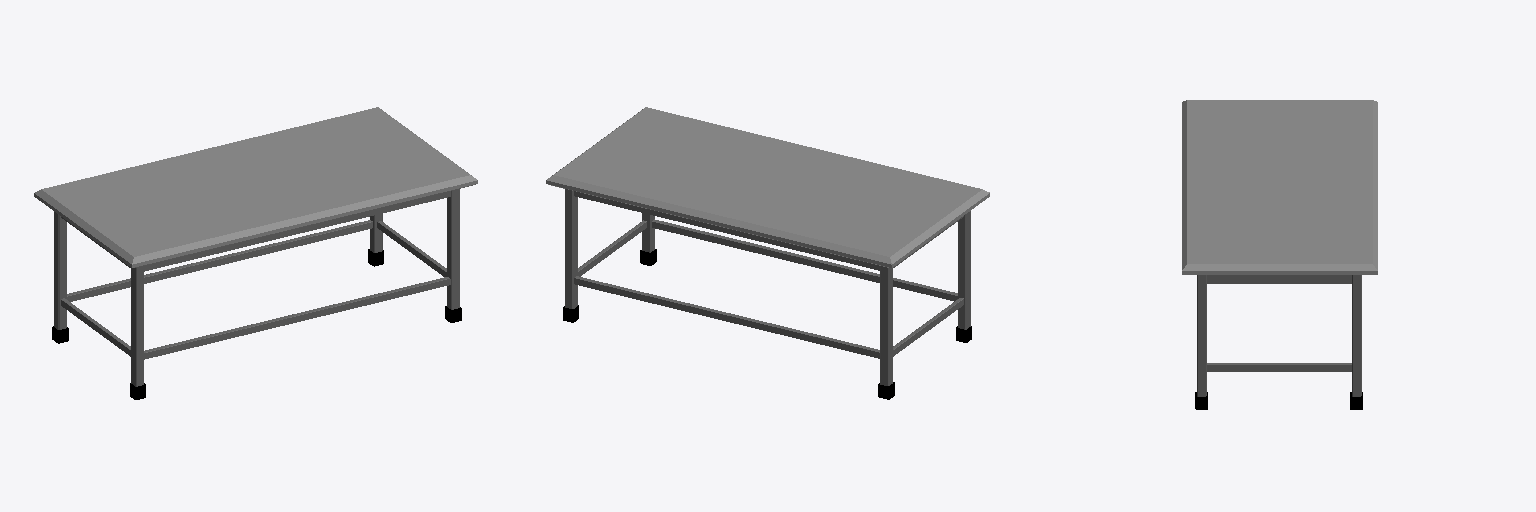
3 views of the same model, side by side, from view 1: azimuth 30°, elevation 25°; view 2: azimuth 150°, elevation 25°; view 3: azimuth 270°, elevation 25° (orthographic).
Parts seen in each view (by area): view 1: bench; view 2: bench; view 3: bench.
Boxes of the visible parts, x1=… form: bench: x1=34, y1=107, x2=477, y2=399; bench: x1=546, y1=107, x2=989, y2=399; bench: x1=1182, y1=100, x2=1377, y2=409.
Size of the model in its own units: 196 by 80.03 by 96.44.
2 materials, 1 textured.